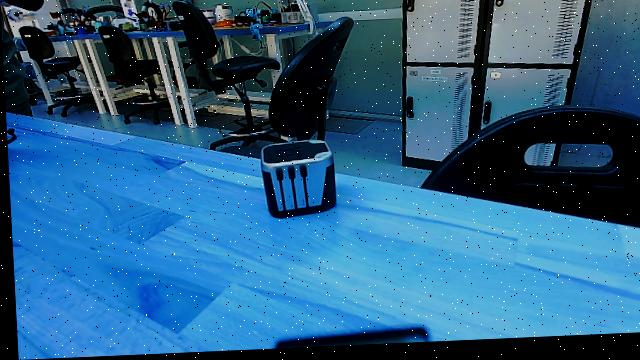adapter: (252, 136, 342, 225)
